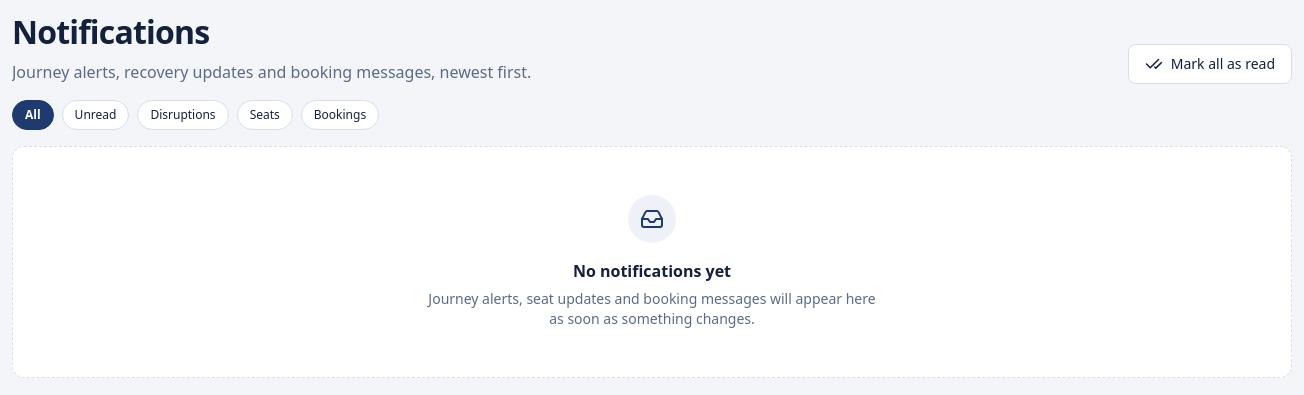
Test: NotificationsPage › shows filter-aware empty states
The image size is (1304, 395).
expect the heading "No notifications yet" is shown: met, box [573,259,731,283]
Click the button "Unread": (96, 115) [62,100,129,130]
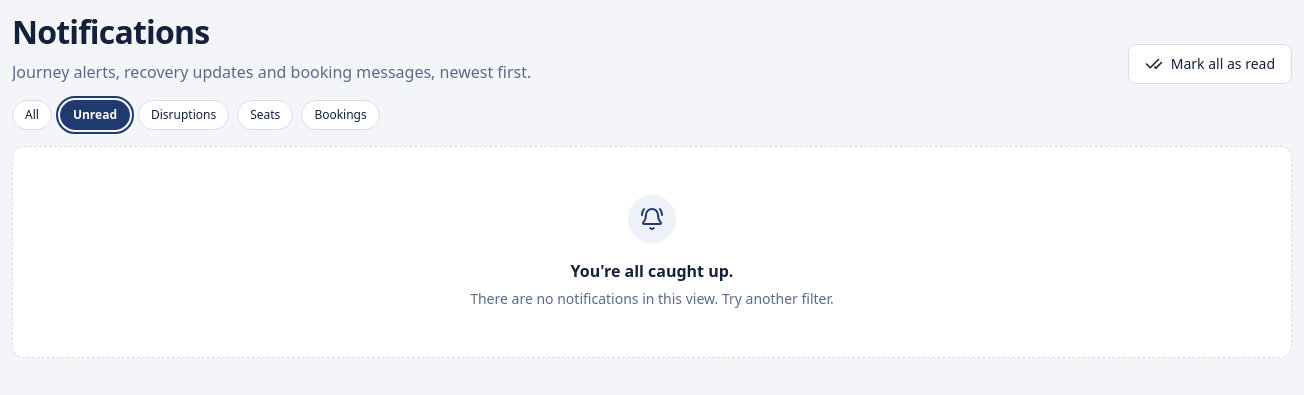
expect the heading "You're all caught up." is shown: met, box [571,259,734,283]
